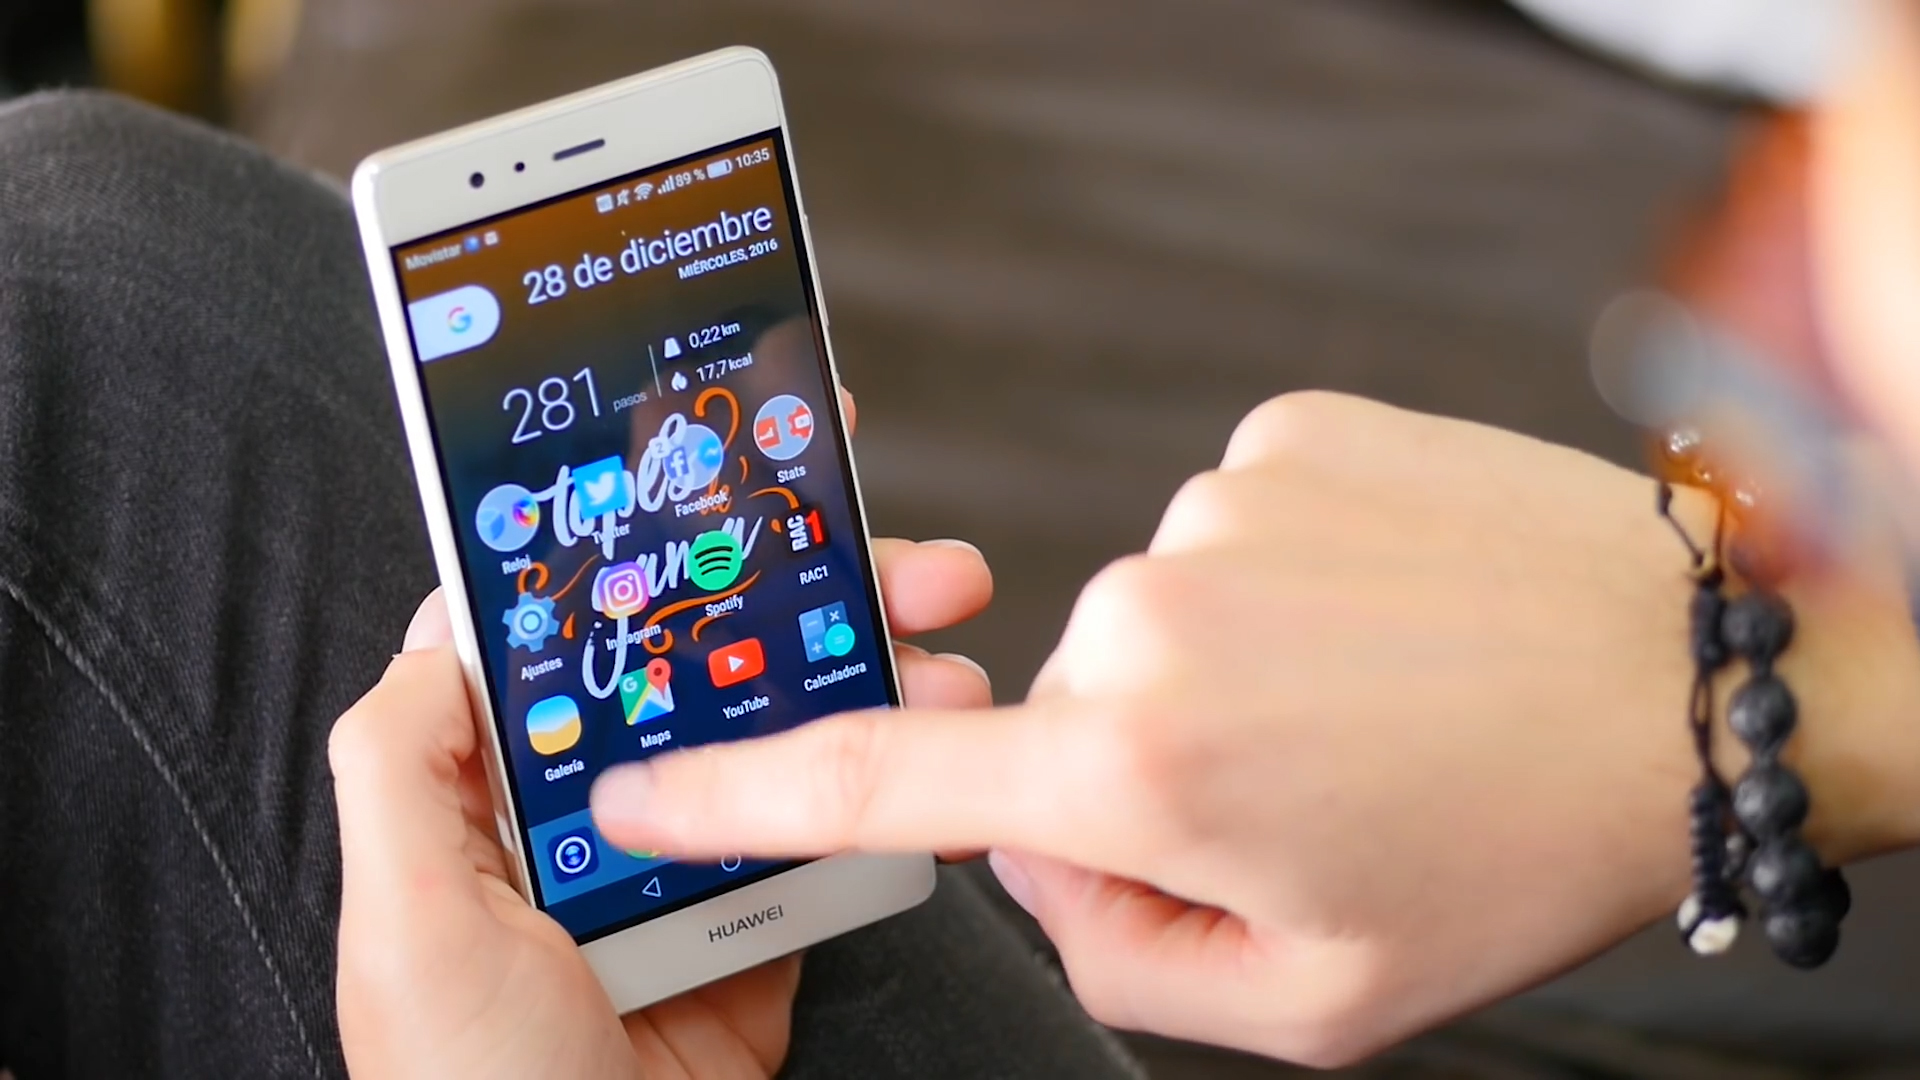smartphone: (344, 36, 948, 1027)
